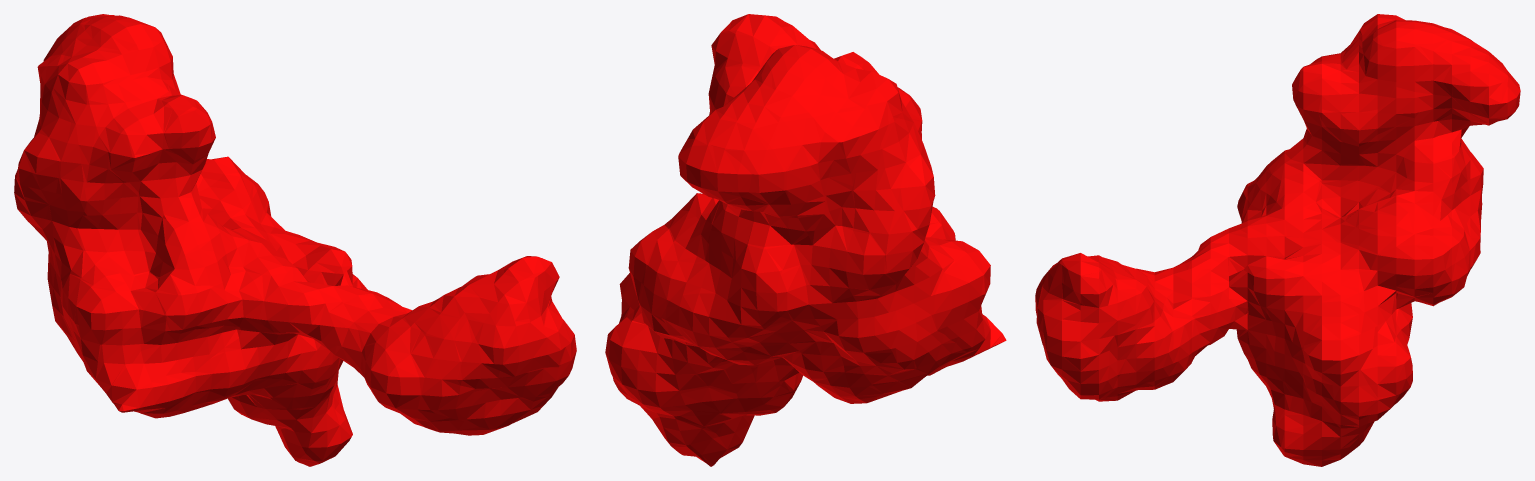
Rendered from rng_coarse.dae.
3 renders of one model, left to right at view 1: azimuth 30°, elevation 25°; view 2: azimuth 150°, elevation 25°; view 3: azimuth 270°, elevation 25°, orthographic. The views are drawn at different scales.
Parts seen in each view (by area): view 1: rng; view 2: rng; view 3: rng.
Boxes of the visible parts, bbox=[...] form: rng: bbox=[14, 14, 576, 466]; rng: bbox=[605, 14, 1006, 466]; rng: bbox=[1035, 14, 1520, 466].
Size of the model in its own units: 77.83 by 86.54 by 98.12.
